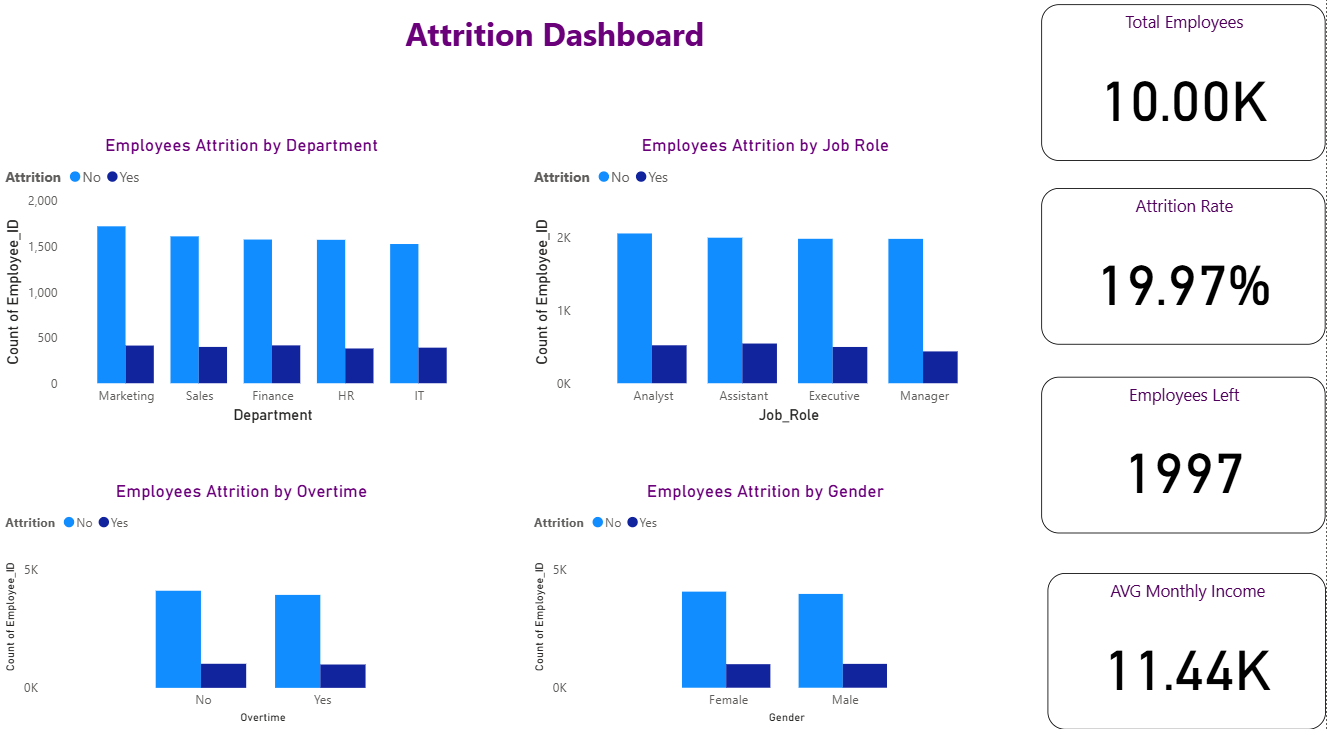

Layout of this report page (visuals, bound fields, positions):
{"tool":"powerbi","page":{"name":"Page 1","canvas":[1280,720],"ordinal":0},"visuals":[{"type":"card","title":"Total Employees","fields":{"Values":["CountNonNull(Attrition.Employee_ID)"]},"box":[1005.6,11,274.4,150.9],"z":0},{"type":"card","title":"Employees Left","fields":{"Values":["CountNonNull(Attrition.Employee_ID)"]},"box":[1005.6,370.5,274.4,150.9],"z":1000},{"type":"card","title":"Attrition Rate","fields":{"Values":["Attrition.attrition rate"]},"box":[1005.6,188,274.4,150.9],"z":2000},{"type":"card","title":"AVG Monthly Income","fields":{"Values":["Avg(Attrition.Monthly_Income)"]},"box":[1011,559.9,269,150.9],"z":3000},{"type":"clusteredColumnChart","title":"Employees Attrition by Department","fields":{"Category":["Attrition.Department"],"Y":["CountNonNull(Attrition.Employee_ID)"],"Series":["Attrition.Attrition"]},"box":[0,135.8,466.6,284],"z":4000},{"type":"clusteredColumnChart","title":"Employees Attrition by Job Role","fields":{"Series":["Attrition.Attrition"],"Category":["Attrition.Job_Role"],"Y":["CountNonNull(Attrition.Employee_ID)"]},"box":[510.5,135.8,456.9,284],"z":5000},{"type":"clusteredColumnChart","title":"Employees Attrition by Overtime","fields":{"Series":["Attrition.Attrition"],"Category":["Attrition.Overtime"],"Y":["CountNonNull(Attrition.Employee_ID)"]},"box":[0,470.7,466.6,240.1],"z":6000},{"type":"shape","box":[263.5,11,544.8,54.9],"z":7000},{"type":"clusteredColumnChart","title":"Employees Attrition by Gender","fields":{"Y":["CountNonNull(Attrition.Employee_ID)"],"Series":["Attrition.Attrition"],"Category":["Attrition.Gender"]},"box":[510,471,457,240],"z":8000}]}

Visuals, with their boxes in screenshot pixels (x1, y1, x2, y2), scaled from the page's 1280x720 canvas onto the 1327x729 screenshot:
"Total Employees" card: {"x1": 1043, "y1": 11, "x2": 1326, "y2": 164}
"Employees Left" card: {"x1": 1043, "y1": 375, "x2": 1326, "y2": 528}
"Attrition Rate" card: {"x1": 1043, "y1": 190, "x2": 1326, "y2": 343}
"AVG Monthly Income" card: {"x1": 1048, "y1": 567, "x2": 1326, "y2": 720}
"Employees Attrition by Department" clusteredColumnChart: {"x1": 0, "y1": 137, "x2": 484, "y2": 425}
"Employees Attrition by Job Role" clusteredColumnChart: {"x1": 529, "y1": 137, "x2": 1003, "y2": 425}
"Employees Attrition by Overtime" clusteredColumnChart: {"x1": 0, "y1": 477, "x2": 484, "y2": 720}
shape: {"x1": 273, "y1": 11, "x2": 838, "y2": 67}
"Employees Attrition by Gender" clusteredColumnChart: {"x1": 529, "y1": 477, "x2": 1003, "y2": 720}
